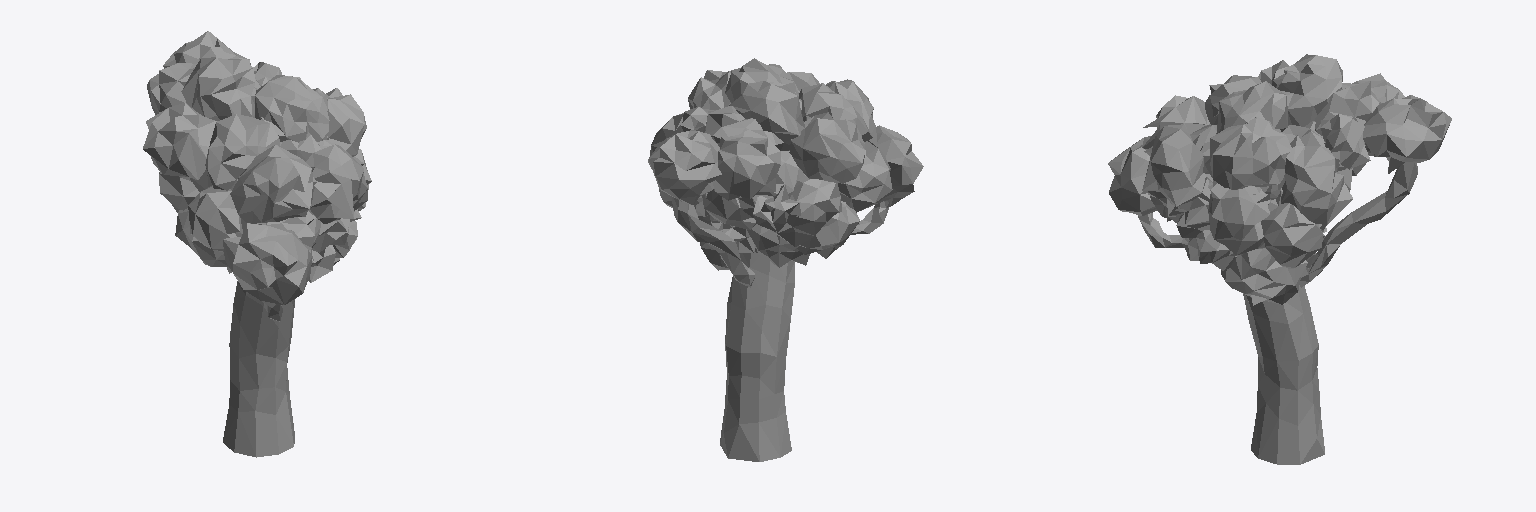
The model's file is Tree1.obj.
3 views of the same model, side by side, from view 1: azimuth 30°, elevation 25°; view 2: azimuth 150°, elevation 25°; view 3: azimuth 270°, elevation 25° (orthographic).
Visible parts, largest first — view 1: Cylinder.002_Cylinder.003; view 2: Cylinder.002_Cylinder.003; view 3: Cylinder.002_Cylinder.003.
Part boxes in pixels (x1,y1,x2,y2): Cylinder.002_Cylinder.003: (143,31,371,457); Cylinder.002_Cylinder.003: (648,58,923,461); Cylinder.002_Cylinder.003: (1108,54,1451,464).
Size of the model in its own units: 2.33 by 4.09 by 3.35.